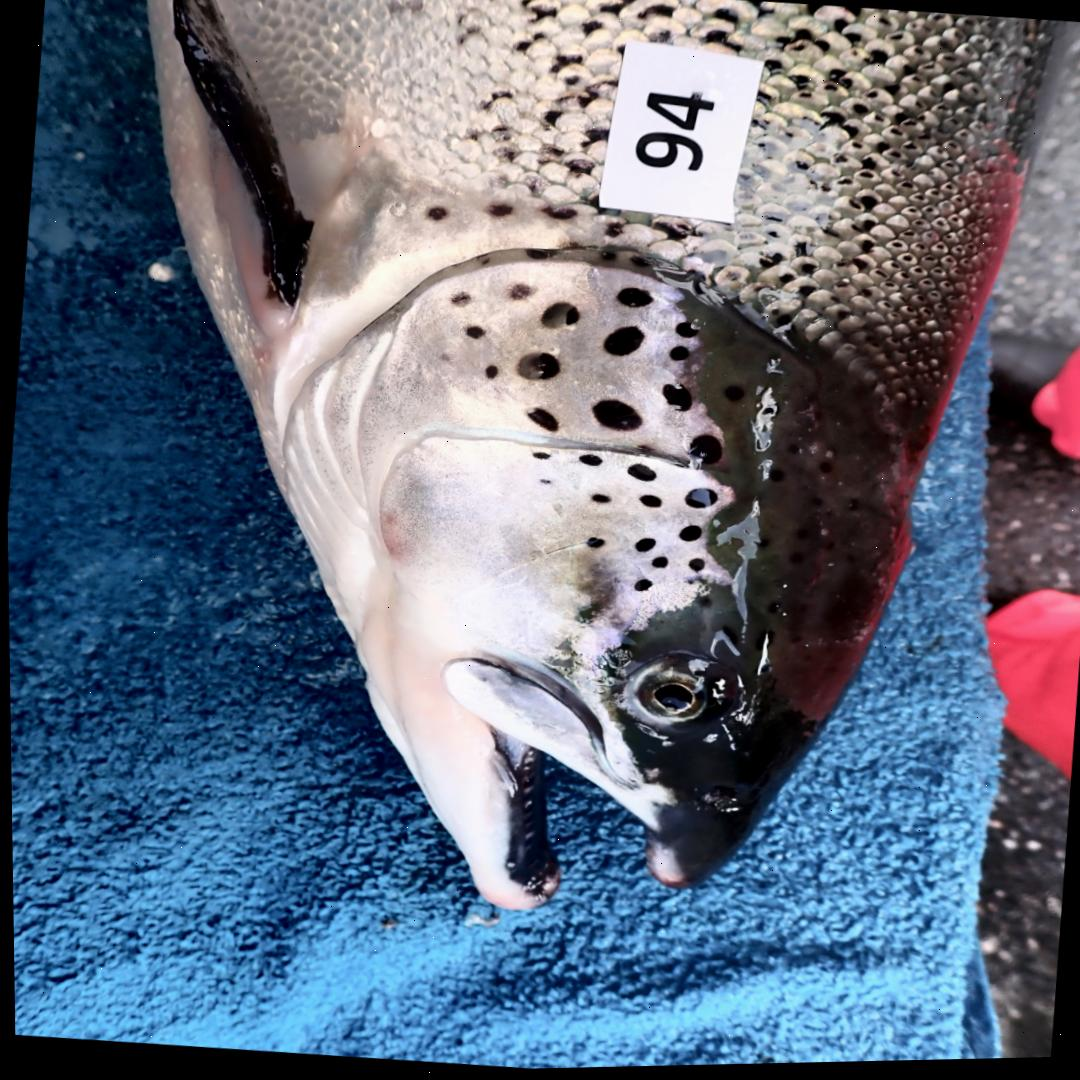spot: (591, 401, 639, 433), (515, 354, 559, 383), (602, 329, 643, 359), (540, 303, 579, 330), (687, 438, 721, 468), (661, 387, 692, 413), (527, 409, 557, 434), (617, 289, 651, 310), (684, 490, 715, 512), (627, 465, 655, 485), (575, 606, 597, 624), (508, 285, 531, 302), (674, 324, 697, 340), (678, 528, 701, 544), (632, 539, 655, 554), (448, 294, 471, 309), (669, 347, 689, 364), (525, 250, 554, 261), (639, 497, 661, 511), (577, 457, 599, 468), (465, 327, 482, 340), (687, 560, 704, 573), (630, 258, 650, 269), (632, 582, 649, 594), (585, 540, 602, 551), (485, 366, 496, 381), (651, 559, 665, 570), (591, 496, 608, 505), (600, 254, 615, 262), (532, 454, 549, 461), (539, 481, 550, 486)
